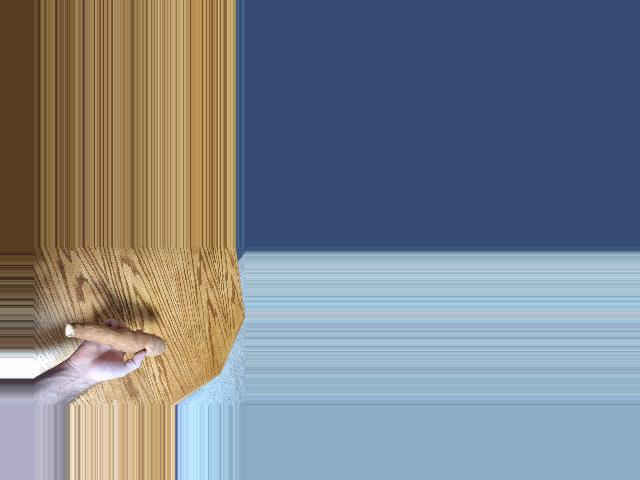sweet_potato: (68, 322, 171, 352)
